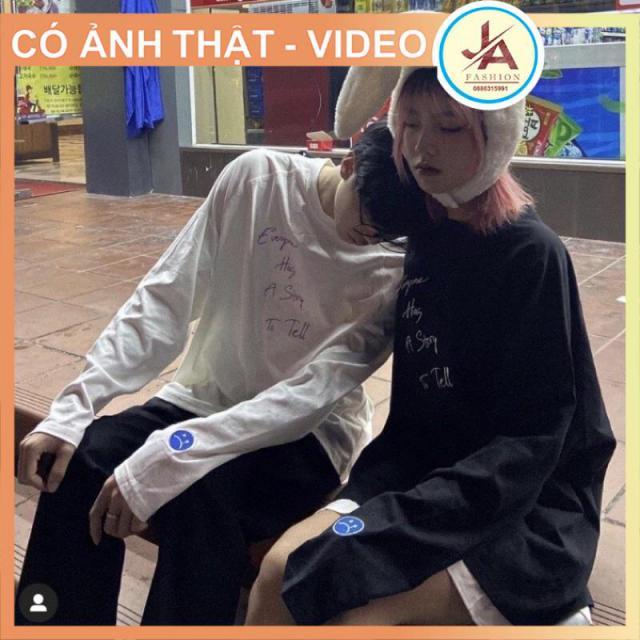Shirt: (25, 144, 433, 525), (278, 197, 622, 625)
